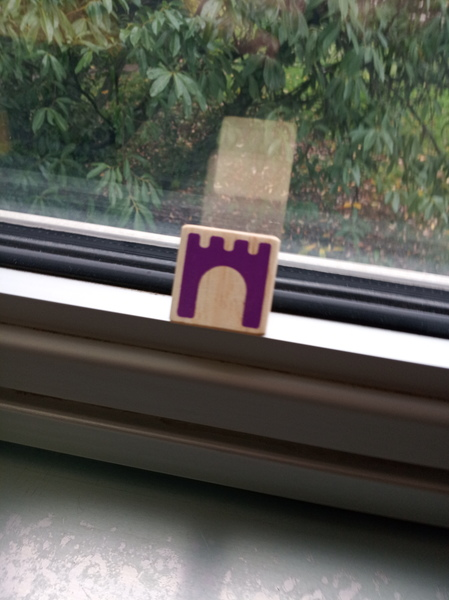violet: (179, 224, 275, 339)
